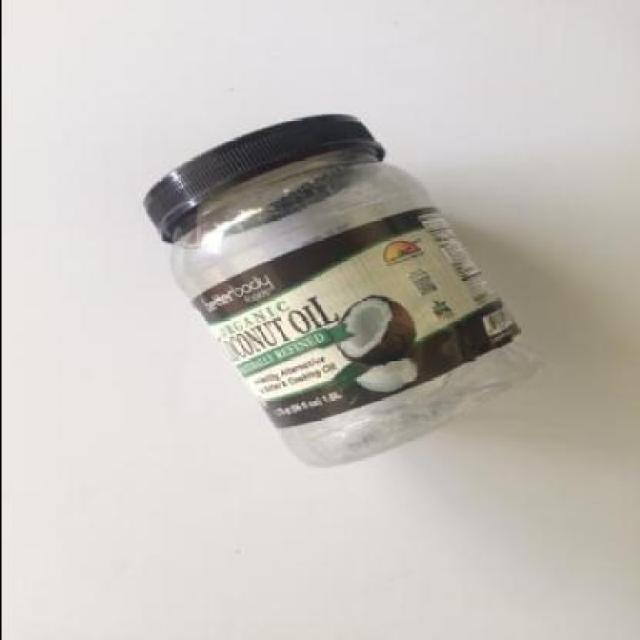PLASTIC: (145, 112, 544, 468), (142, 112, 384, 242)
